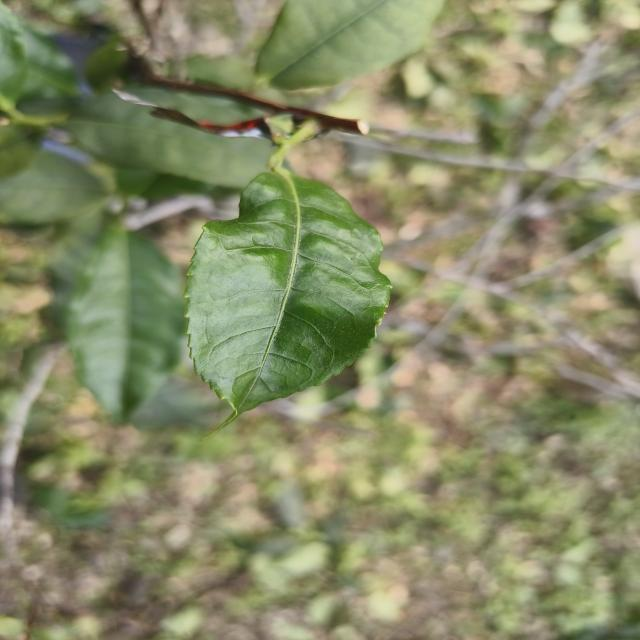Leaf: (185, 169, 390, 426), (68, 226, 185, 421), (65, 92, 271, 188), (256, 0, 443, 90), (0, 151, 109, 225), (21, 26, 128, 99), (125, 87, 259, 124), (0, 124, 41, 177)
